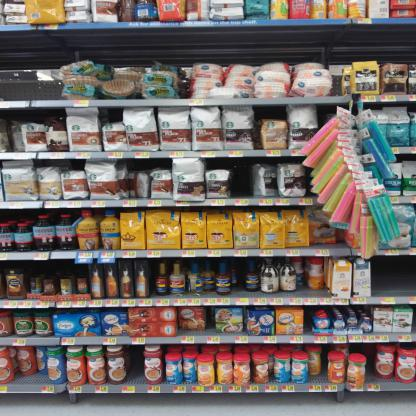Void: (375, 260, 414, 299), (232, 160, 252, 196), (127, 348, 145, 384), (9, 108, 58, 120), (17, 374, 45, 386), (102, 107, 125, 121), (260, 104, 281, 118)
